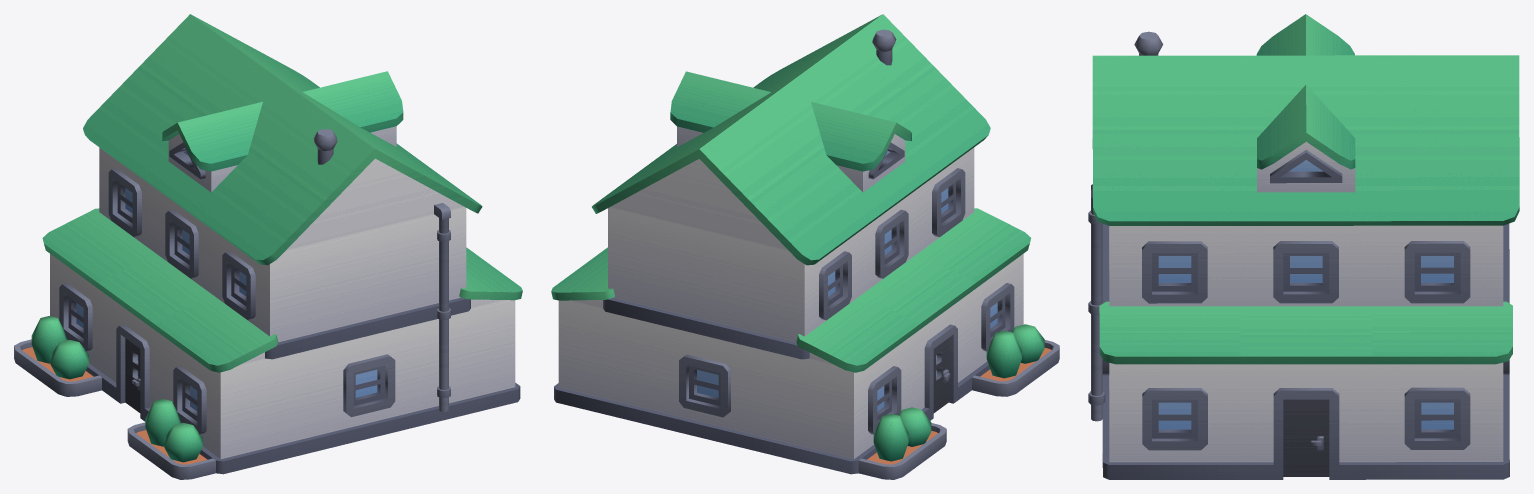
The model's file is building-type-t.059_lev3.glb.
3 renders of one model, left to right at view 1: azimuth 30°, elevation 25°; view 2: azimuth 150°, elevation 25°; view 3: azimuth 270°, elevation 25°, orthographic. The views are drawn at different scales.
Visible parts, largest first — view 1: building-type-t.059_lev3; view 2: building-type-t.059_lev3; view 3: building-type-t.059_lev3.
Part boxes in pixels (bbox=[...]): building-type-t.059_lev3: bbox=[14, 14, 522, 479]; building-type-t.059_lev3: bbox=[551, 14, 1059, 479]; building-type-t.059_lev3: bbox=[1088, 14, 1519, 479].
Bounding box in the file's own units: 7.04 × 5.78 × 6.57.
Materials: 1 (1 with a texture image).
